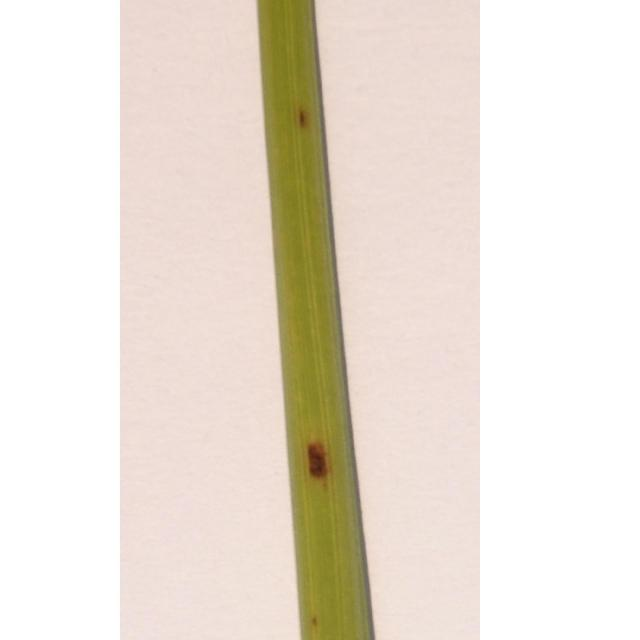Brown spot: (304, 436, 334, 486), (296, 103, 314, 145), (306, 607, 319, 629)
